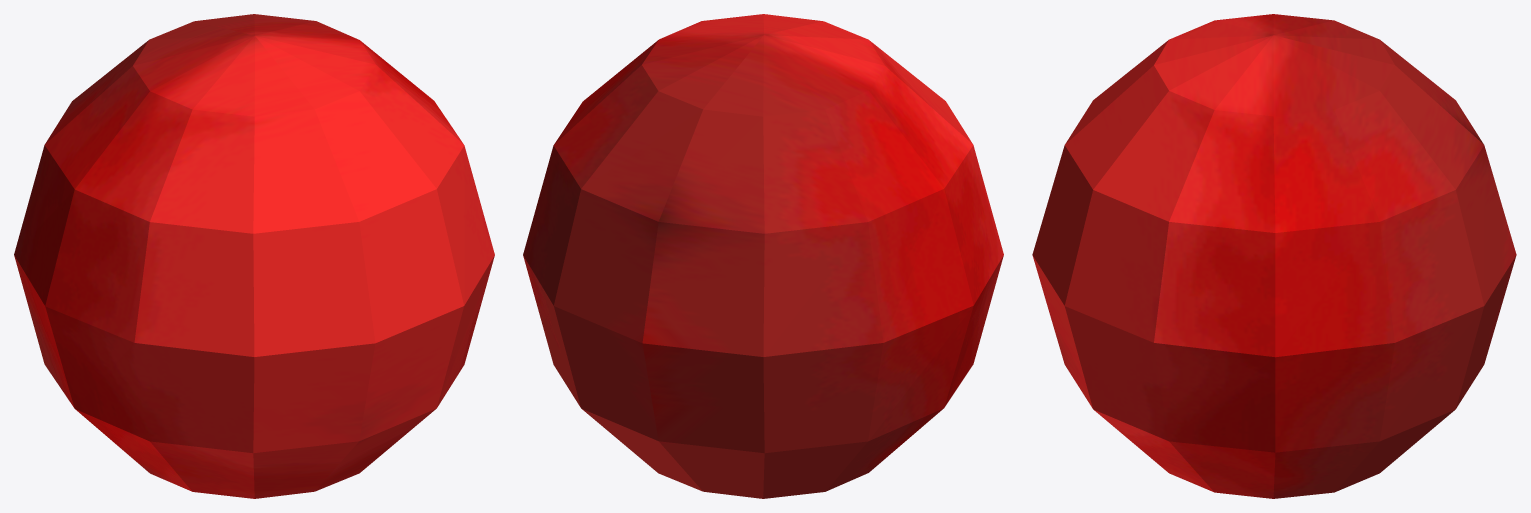
File: Tom.glb
The picture shows the model from 3 angles, left to right: view 1: azimuth 30°, elevation 25°; view 2: azimuth 150°, elevation 25°; view 3: azimuth 270°, elevation 25°; orthographic projection.
Visible parts, largest first — view 1: Tom; view 2: Tom; view 3: Tom.
Boxes of the visible parts, <box> form: Tom: <box>14,14,494,498</box>; Tom: <box>523,14,1003,498</box>; Tom: <box>1032,14,1516,498</box>.
Bounding box in the file's own units: 32.03 × 32.02 × 32.
1 material, 1 textured.
